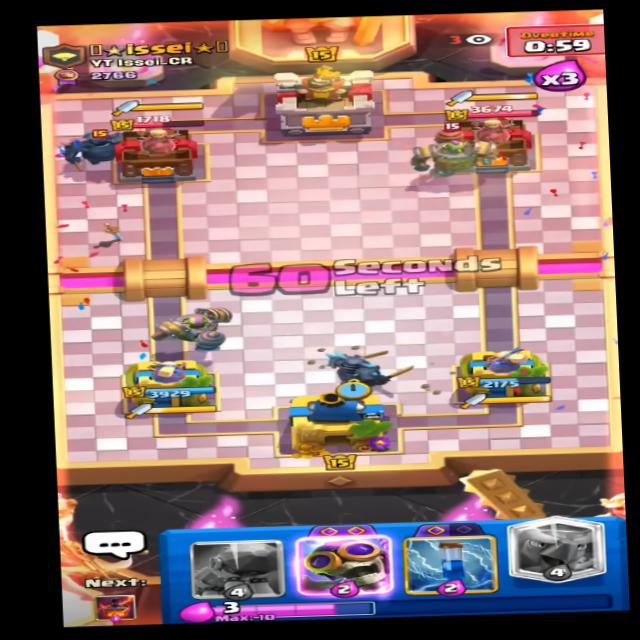goblin-machine: (404, 120, 513, 176)
pekka: (58, 121, 138, 164)
